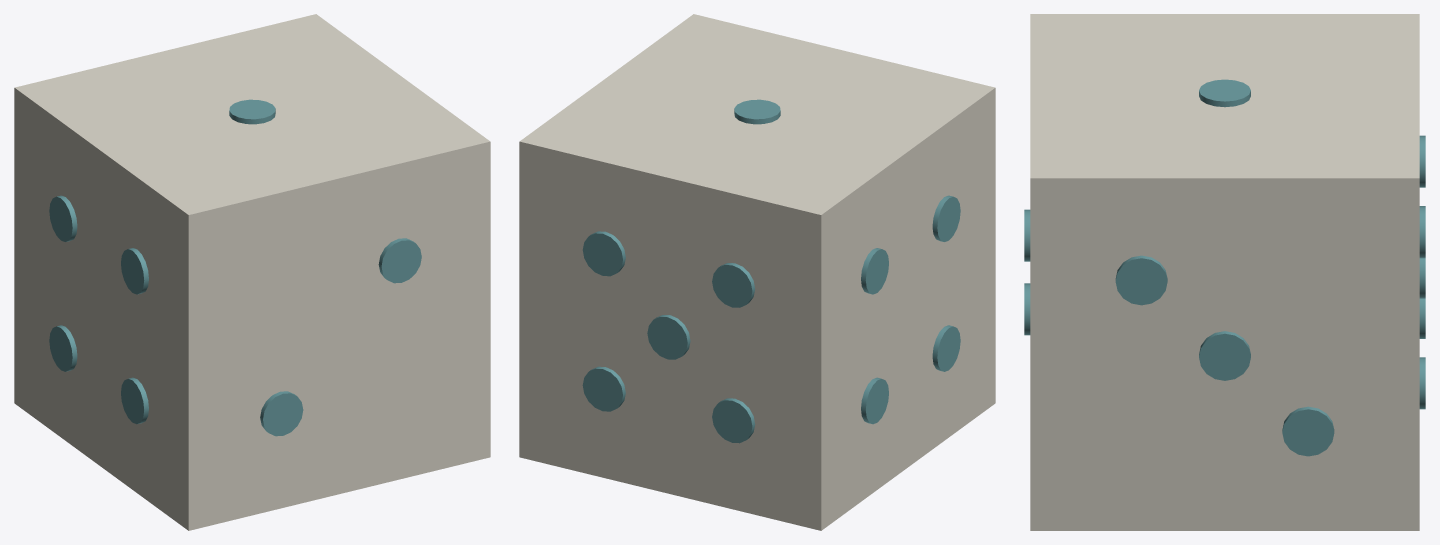
Rendered from die.glb.
3 renders of one model, left to right at view 1: azimuth 30°, elevation 25°; view 2: azimuth 150°, elevation 25°; view 3: azimuth 270°, elevation 25°, orthographic. The views are drawn at different scales.
Visible parts, largest first — view 1: die-body, pip-2-0.22-0.22, pip-2--0.22--0.22, pip-4--0.23--0.23, pip-4-0.23-0.23, pip-4-0.23--0.23, pip-4--0.23-0.23, pip-1-0-0; view 2: die-body, pip-5-0.24--0.24, pip-5-0-0, pip-5--0.24-0.24, pip-5--0.24--0.24, pip-5-0.24-0.24, pip-4-0.23--0.23, pip-4--0.23-0.23, pip-4--0.23--0.23, pip-4-0.23-0.23, pip-1-0-0; view 3: die-body, pip-3--0.24--0.24, pip-3-0.24-0.24, pip-3-0-0, pip-1-0-0.
Part boxes in pixels (bbox=[...]): die-body: bbox=[14, 14, 490, 530]; pip-2-0.22-0.22: bbox=[378, 238, 421, 283]; pip-2--0.22--0.22: bbox=[260, 391, 303, 436]; pip-4--0.23--0.23: bbox=[49, 325, 77, 371]; pip-4-0.23-0.23: bbox=[121, 248, 148, 294]; pip-4-0.23--0.23: bbox=[121, 377, 148, 424]; pip-4--0.23-0.23: bbox=[49, 195, 77, 241]; pip-1-0-0: bbox=[229, 99, 275, 124]; die-body: bbox=[519, 14, 995, 530]; pip-5-0.24--0.24: bbox=[582, 366, 625, 411]; pip-5-0-0: bbox=[647, 315, 690, 359]; pip-5--0.24-0.24: bbox=[712, 263, 755, 307]; pip-5--0.24--0.24: bbox=[712, 398, 755, 443]; pip-5-0.24-0.24: bbox=[582, 231, 625, 276]; pip-4-0.23--0.23: bbox=[932, 325, 960, 371]; pip-4--0.23-0.23: bbox=[861, 248, 888, 294]; pip-4--0.23--0.23: bbox=[861, 377, 888, 424]; pip-4-0.23-0.23: bbox=[932, 195, 960, 241]; pip-1-0-0: bbox=[734, 99, 780, 124]; die-body: bbox=[1030, 14, 1419, 530]; pip-3--0.24--0.24: bbox=[1282, 406, 1334, 456]; pip-3-0.24-0.24: bbox=[1115, 255, 1167, 305]; pip-3-0-0: bbox=[1199, 331, 1250, 380]; pip-1-0-0: bbox=[1199, 79, 1250, 107].
Size of the model in its own units: 1.16 by 1.16 by 1.16.
